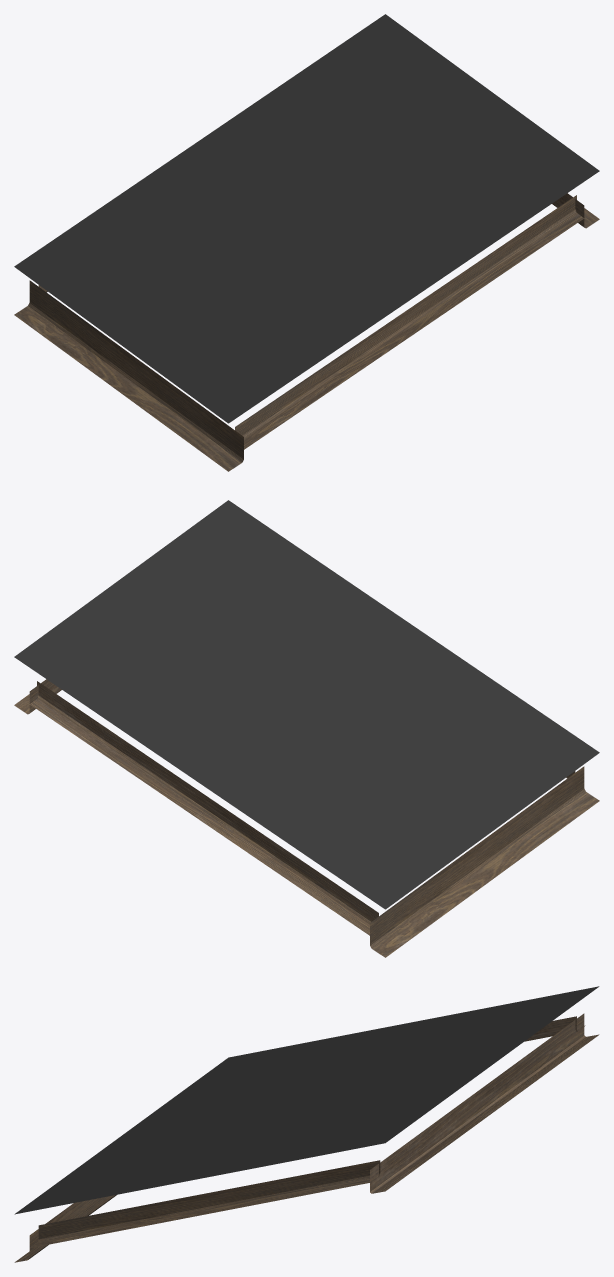
The model's file is SM_Angled_Ceiling_3x3.FBX.
3 renders of one model, top to bottom at view 1: azimuth 30°, elevation 25°; view 2: azimuth 150°, elevation 25°; view 3: azimuth 330°, elevation 25°, orthographic.
Parts seen in each view (by area): view 1: SM_Angled_Ceiling_3x3; view 2: SM_Angled_Ceiling_3x3; view 3: SM_Angled_Ceiling_3x3.
Boxes of the visible parts, <box> form: SM_Angled_Ceiling_3x3: <box>14,14,599,471</box>; SM_Angled_Ceiling_3x3: <box>14,500,599,957</box>; SM_Angled_Ceiling_3x3: <box>14,986,599,1262</box>.
Size of what is drawn, in the model's own units: 300 by 300 by 162.
